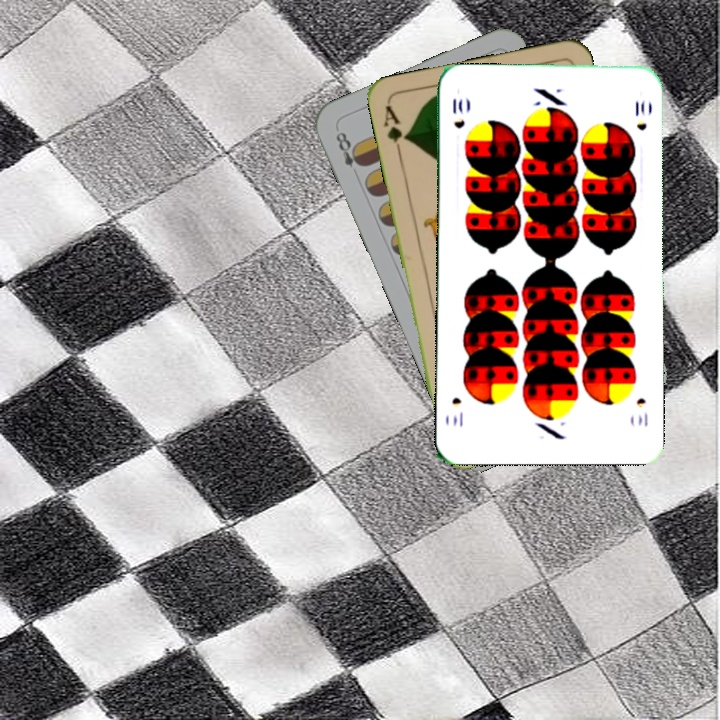E8: (331, 127, 367, 171)
GA: (379, 101, 410, 160)
S10: (449, 94, 467, 131), (632, 394, 650, 429)
